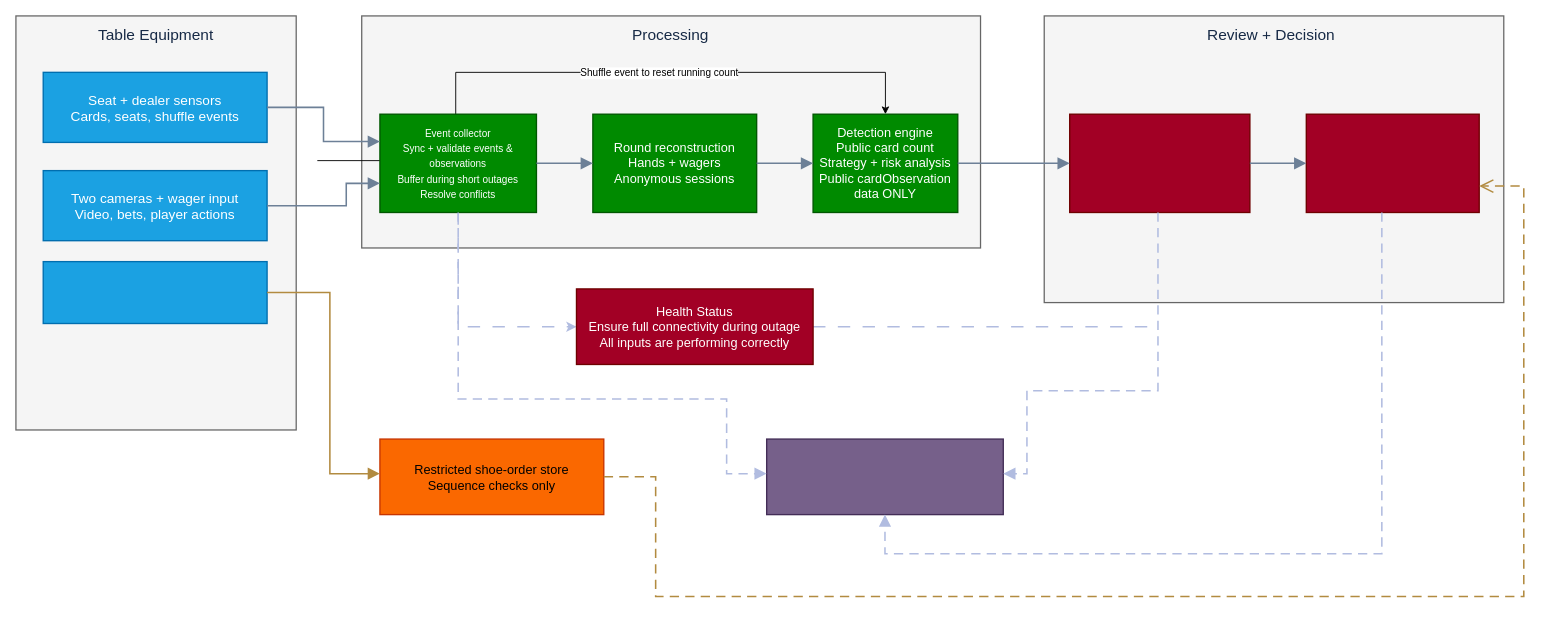
The diagram is 1553 pixels wide and 626 high, and some of its shapes have lost their labels. The box of each missing label's shape, as (x1, y1, x2, y2) in pixels:
Alert dashboard Evidence + confidence Session timeline: (1069, 113, 1250, 213)
Approved card-reading shoe Verified card order: (42, 261, 267, 324)
Authorized staff Operator reviews Supervisor decides if player is cheating: (1305, 113, 1479, 213)
Evidence + audit database Events, video refs, reviews: (766, 438, 1004, 515)
